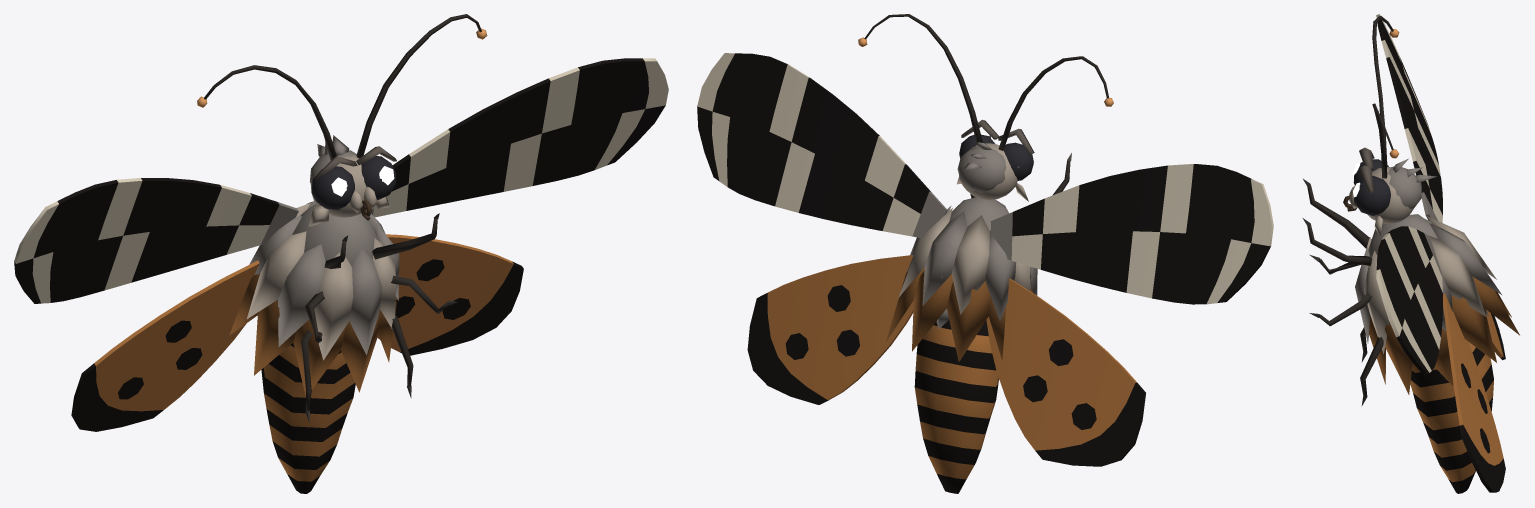
The model's file is moth-tiger-wing.glb.
3 views of the same model, side by side, from view 1: azimuth 30°, elevation 25°; view 2: azimuth 150°, elevation 25°; view 3: azimuth 270°, elevation 25° (orthographic). The views are drawn at different scales.
Parts seen in each view (by area): view 1: glide_wing_1, glide_wing_0, body, pulse_abdomen, turn_head, blink_eye_r, sway_feeler_l, sway_feeler_r, blink_eye_l; view 2: glide_wing_1, glide_wing_0, body, pulse_abdomen, turn_head, sway_feeler_l, sway_feeler_r, blink_eye_r; view 3: glide_wing_0, body, pulse_abdomen, glide_wing_1, turn_head, blink_eye_l, sway_feeler_r, sway_feeler_l, blink_eye_r.
Part boxes in pixels (left/top/right/bottom): glide_wing_1: left=14, top=178, right=298, bottom=431; glide_wing_0: left=371, top=58, right=668, bottom=355; body: left=229, top=201, right=457, bottom=422; pulse_abdomen: left=261, top=343, right=355, bottom=493; turn_head: left=308, top=135, right=396, bottom=226; blink_eye_r: left=311, top=166, right=354, bottom=209; sway_feeler_l: left=356, top=14, right=487, bottom=158; sway_feeler_r: left=197, top=65, right=336, bottom=160; blink_eye_l: left=361, top=156, right=396, bottom=199; glide_wing_1: left=986, top=164, right=1273, bottom=466; glide_wing_0: left=697, top=53, right=947, bottom=404; body: left=886, top=135, right=1071, bottom=361; pulse_abdomen: left=914, top=320, right=999, bottom=493; turn_head: left=957, top=119, right=1034, bottom=201; sway_feeler_l: left=858, top=14, right=982, bottom=144; sway_feeler_r: left=998, top=56, right=1113, bottom=150; blink_eye_r: left=1003, top=142, right=1033, bottom=180; glide_wing_0: left=1376, top=226, right=1505, bottom=492; body: left=1303, top=179, right=1519, bottom=406; pulse_abdomen: left=1410, top=342, right=1493, bottom=493; glide_wing_1: left=1376, top=14, right=1505, bottom=360; turn_head: left=1343, top=147, right=1436, bottom=237; blink_eye_l: left=1353, top=176, right=1390, bottom=215; sway_feeler_r: left=1372, top=16, right=1399, bottom=166; sway_feeler_l: left=1372, top=103, right=1398, bottom=178; blink_eye_r: left=1353, top=159, right=1388, bottom=185.
Bounding box in the file's own units: 1.24 × 0.8828 × 0.4067.
